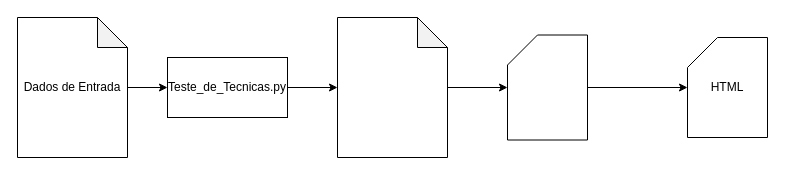
Some shapes in this 785 by 175 pixel diagram are drawn without their labels. Each missing label, with the box of its shape:
Saída: (336, 16, 448, 158)
Script D3: (506, 34, 588, 140)
